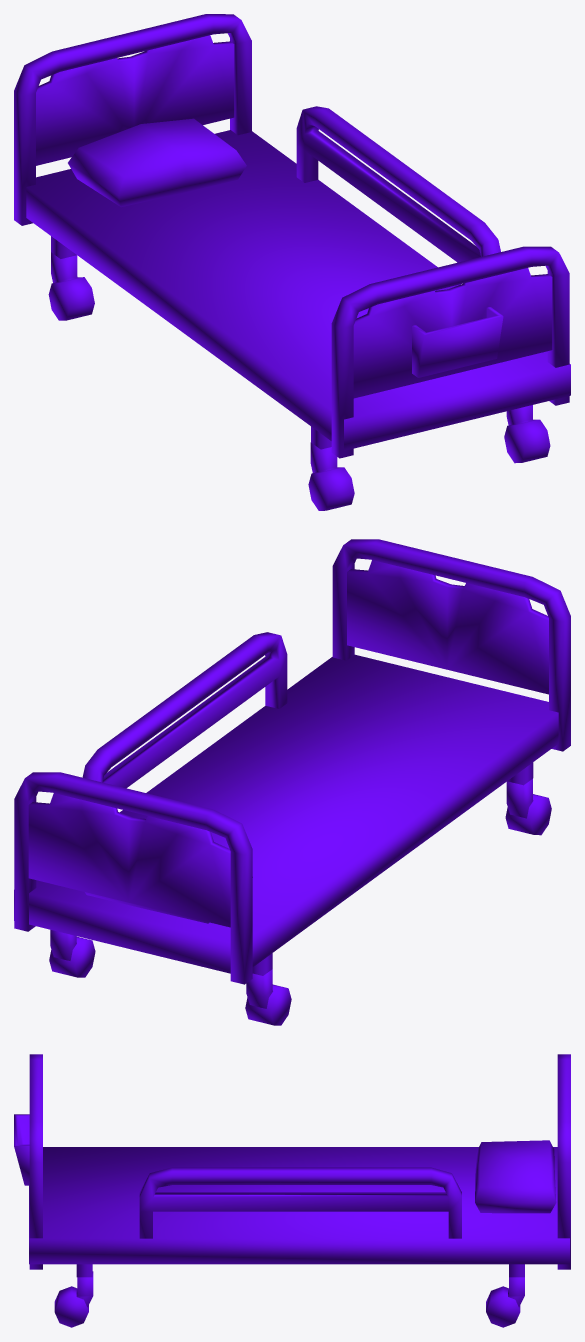
The model's file is hospital_staff_hospitalBed_1_meshCollider.fbx.
The picture shows the model from 3 angles, top to bottom: view 1: azimuth 30°, elevation 25°; view 2: azimuth 150°, elevation 25°; view 3: azimuth 270°, elevation 25°; orthographic projection. The views are drawn at different scales.
Parts seen in each view (by area): view 1: hospital_staff_hospitalBed_1_meshCollider, hospital_staff_hospitalBed_railing_1_meshCollider, hospital_staff_hospitalBed_pillow_1_meshCollider, hospital_staff_hospitalBed_wheel_3_meshCollider, hospital_staff_hospitalBed_wheel_1_meshCollider, hospital_staff_hospitalBed_wheel_2_meshCollider; view 2: hospital_staff_hospitalBed_1_meshCollider, hospital_staff_hospitalBed_railing_1_meshCollider, hospital_staff_hospitalBed_wheel_1_meshCollider, hospital_staff_hospitalBed_wheel_3_meshCollider, hospital_staff_hospitalBed_wheel_4_meshCollider; view 3: hospital_staff_hospitalBed_1_meshCollider, hospital_staff_hospitalBed_railing_1_meshCollider, hospital_staff_hospitalBed_pillow_1_meshCollider, hospital_staff_hospitalBed_wheel_2_meshCollider, hospital_staff_hospitalBed_wheel_4_meshCollider.
Boxes of the visible parts, x1,y1,x2,y2 form: hospital_staff_hospitalBed_1_meshCollider: (14, 14, 570, 458); hospital_staff_hospitalBed_railing_1_meshCollider: (296, 106, 500, 262); hospital_staff_hospitalBed_pillow_1_meshCollider: (68, 118, 246, 207); hospital_staff_hospitalBed_wheel_3_meshCollider: (48, 252, 94, 320); hospital_staff_hospitalBed_wheel_1_meshCollider: (308, 442, 354, 510); hospital_staff_hospitalBed_wheel_2_meshCollider: (504, 405, 550, 463); hospital_staff_hospitalBed_1_meshCollider: (14, 539, 570, 984); hospital_staff_hospitalBed_railing_1_meshCollider: (82, 632, 287, 788); hospital_staff_hospitalBed_wheel_1_meshCollider: (505, 779, 551, 835); hospital_staff_hospitalBed_wheel_3_meshCollider: (245, 969, 291, 1025); hospital_staff_hospitalBed_wheel_4_meshCollider: (49, 930, 95, 977); hospital_staff_hospitalBed_1_meshCollider: (14, 1054, 570, 1277); hospital_staff_hospitalBed_railing_1_meshCollider: (139, 1167, 461, 1238); hospital_staff_hospitalBed_pillow_1_meshCollider: (475, 1140, 556, 1213); hospital_staff_hospitalBed_wheel_2_meshCollider: (54, 1271, 93, 1327); hospital_staff_hospitalBed_wheel_4_meshCollider: (486, 1277, 524, 1327).
Bounding box in the file's own units: 55.03 × 52.65 × 138.
